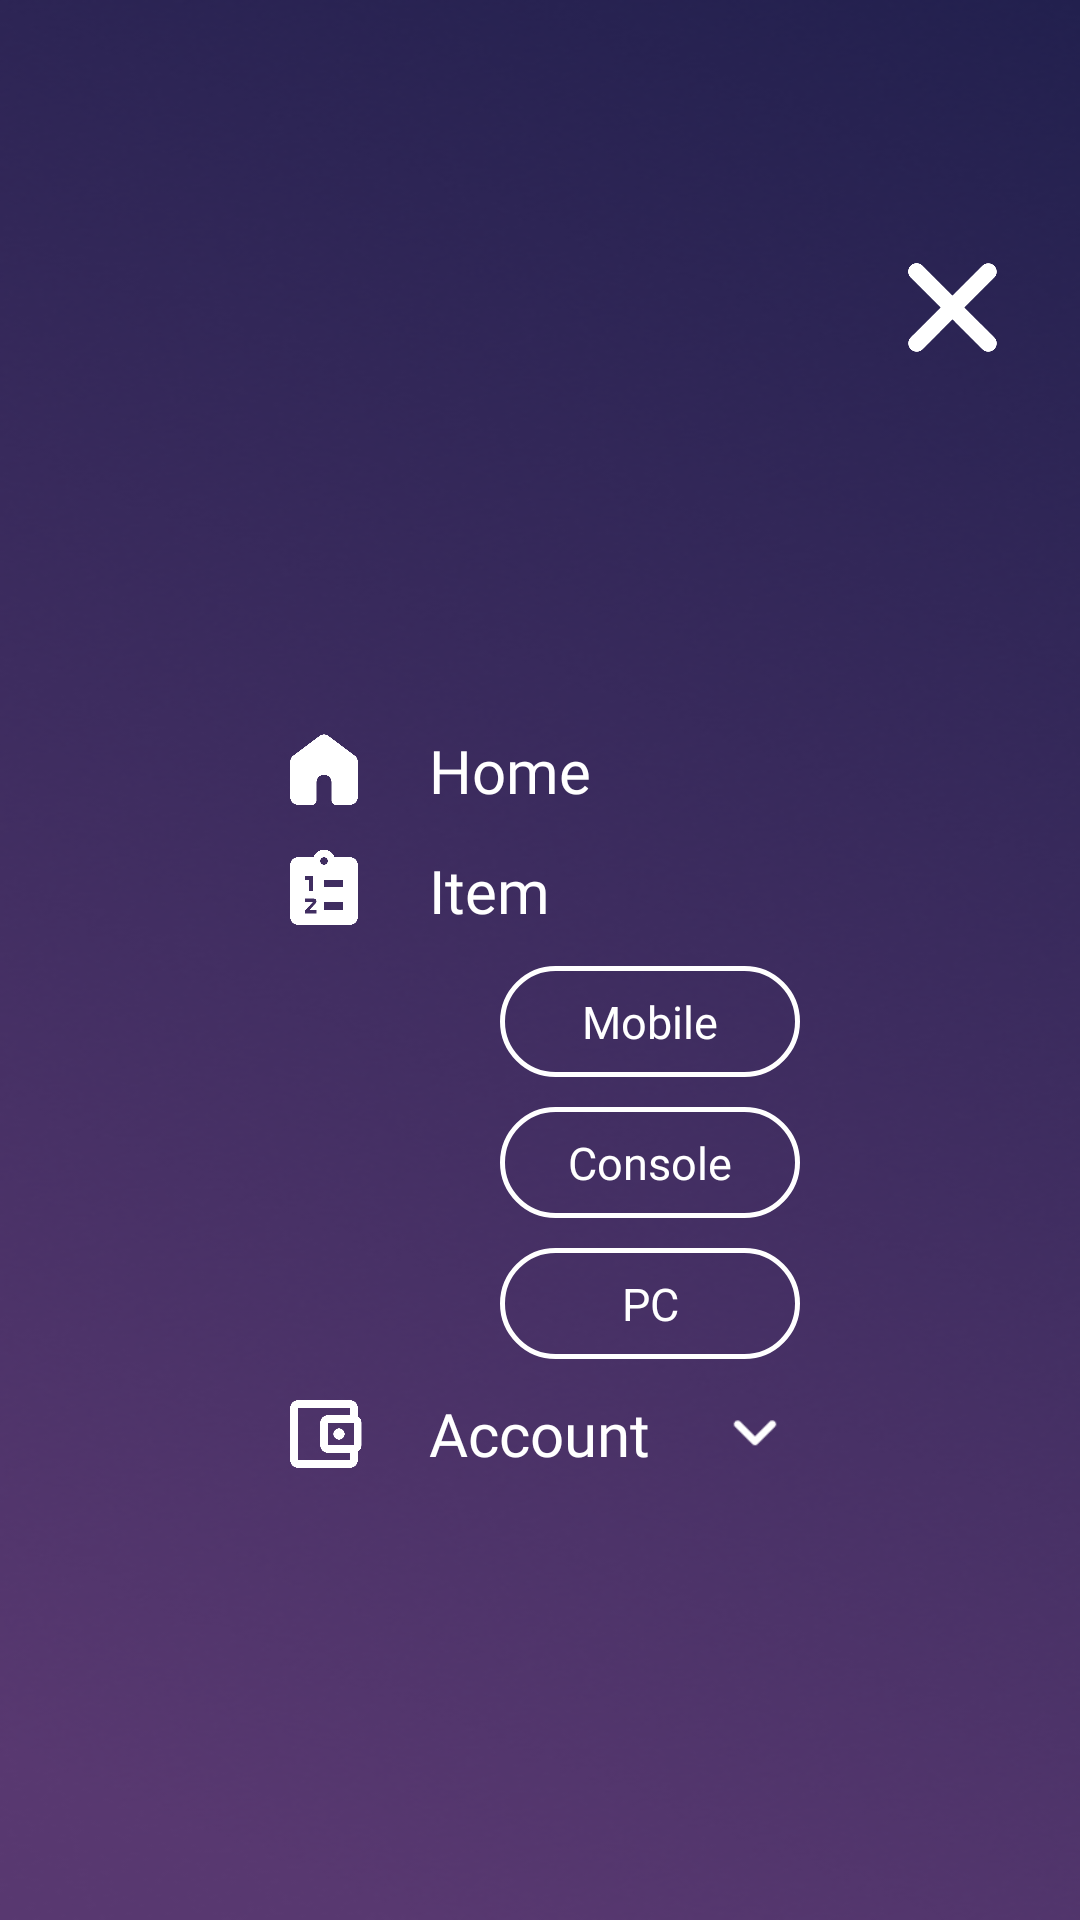

Where to tap for icons on this 1080x1920 app screen, as point (x, y):
buttonbawah: point (755, 1433)
silanggambar: point (952, 307)
